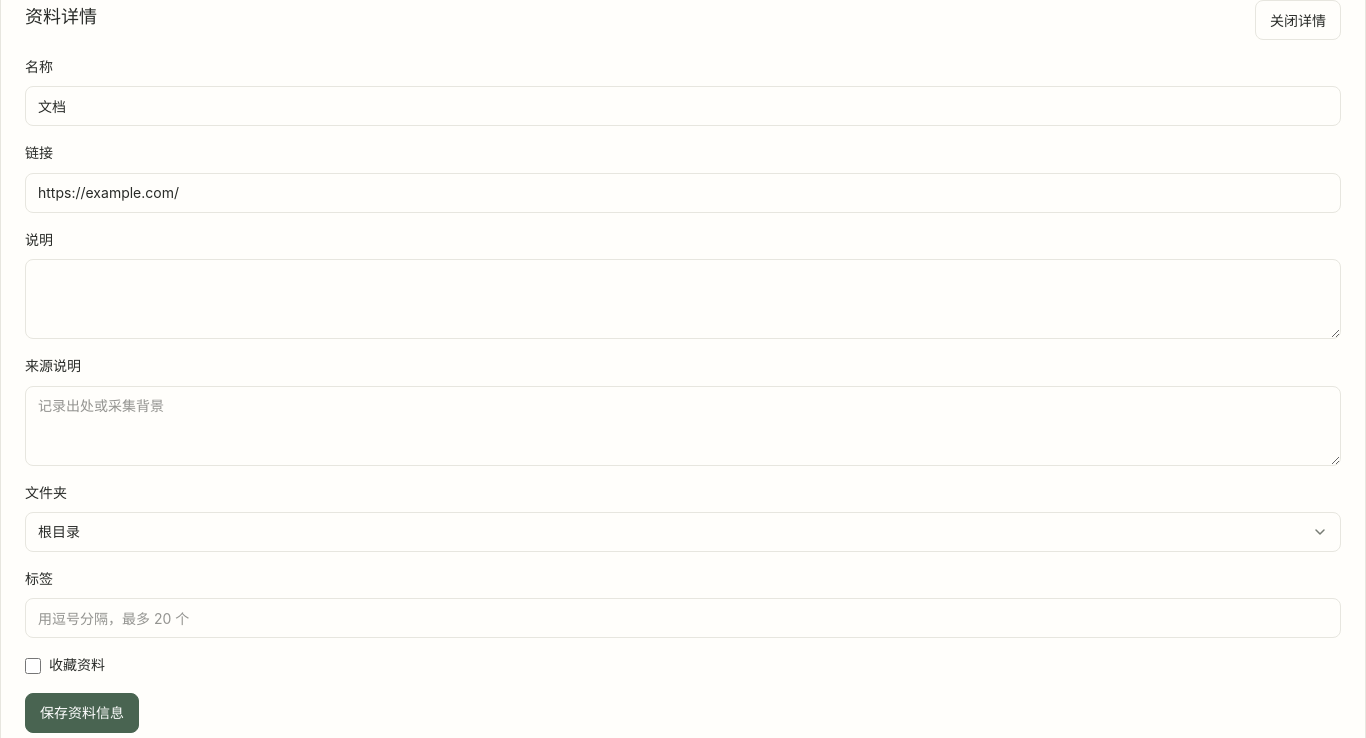
Test: 资料关联成功后下一次保存使用新 revision，不丢正在编辑的说明
In the text box labelled "说明": (683, 299) [25,259,1341,339], type "待整理"
(page scrolled)
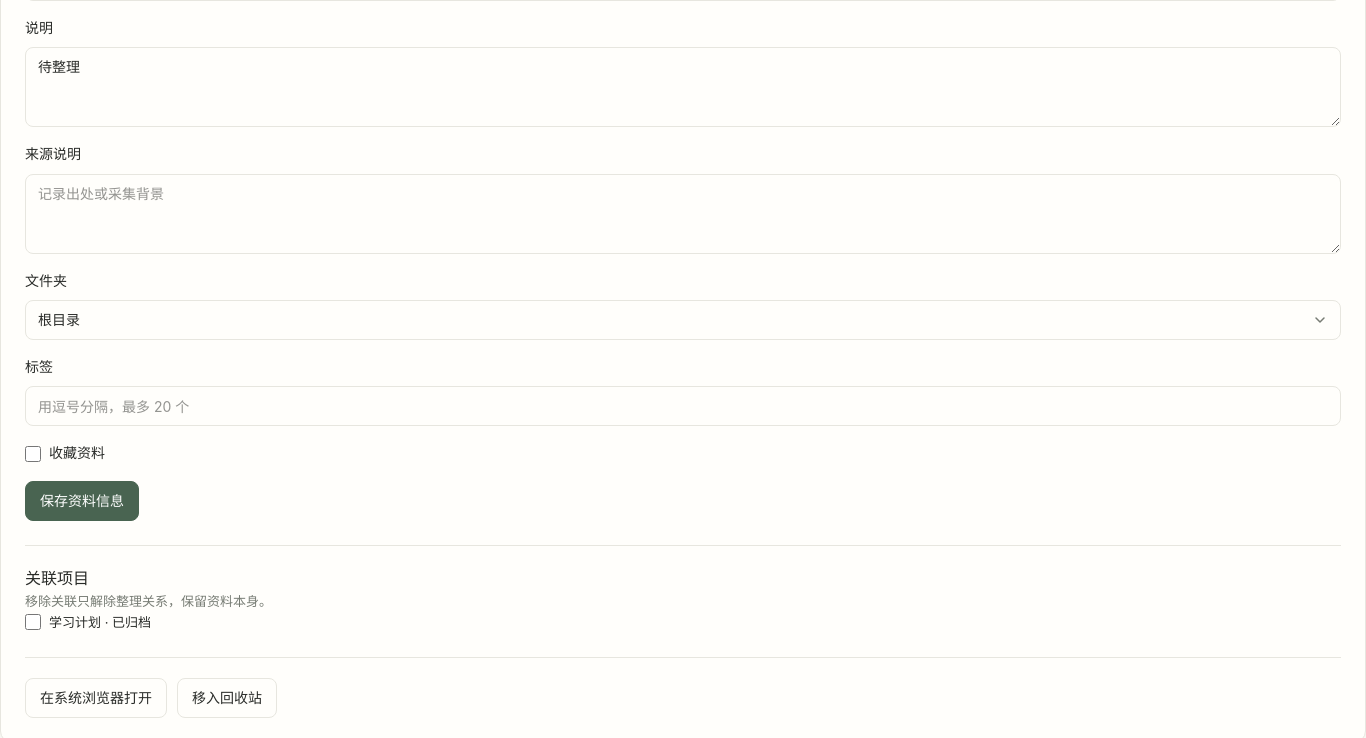
Click the checkbox labelled "学习计划 · 已归档": (33, 622) [25,614,41,630]
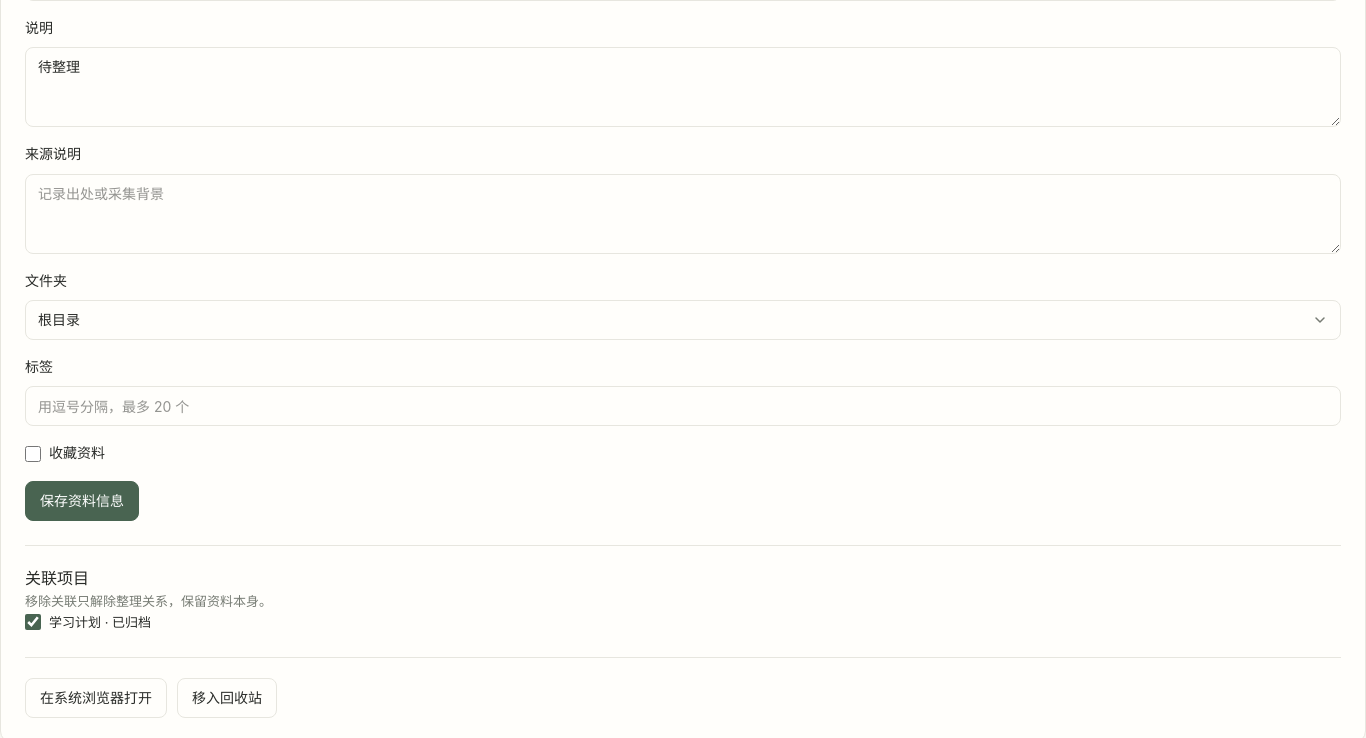
Now the checkbox labelled "学习计划 · 已归档" is checked, box [25,614,41,630]
Click the button "保存资料信息": (82, 501) [25,481,139,521]
(page scrolled)
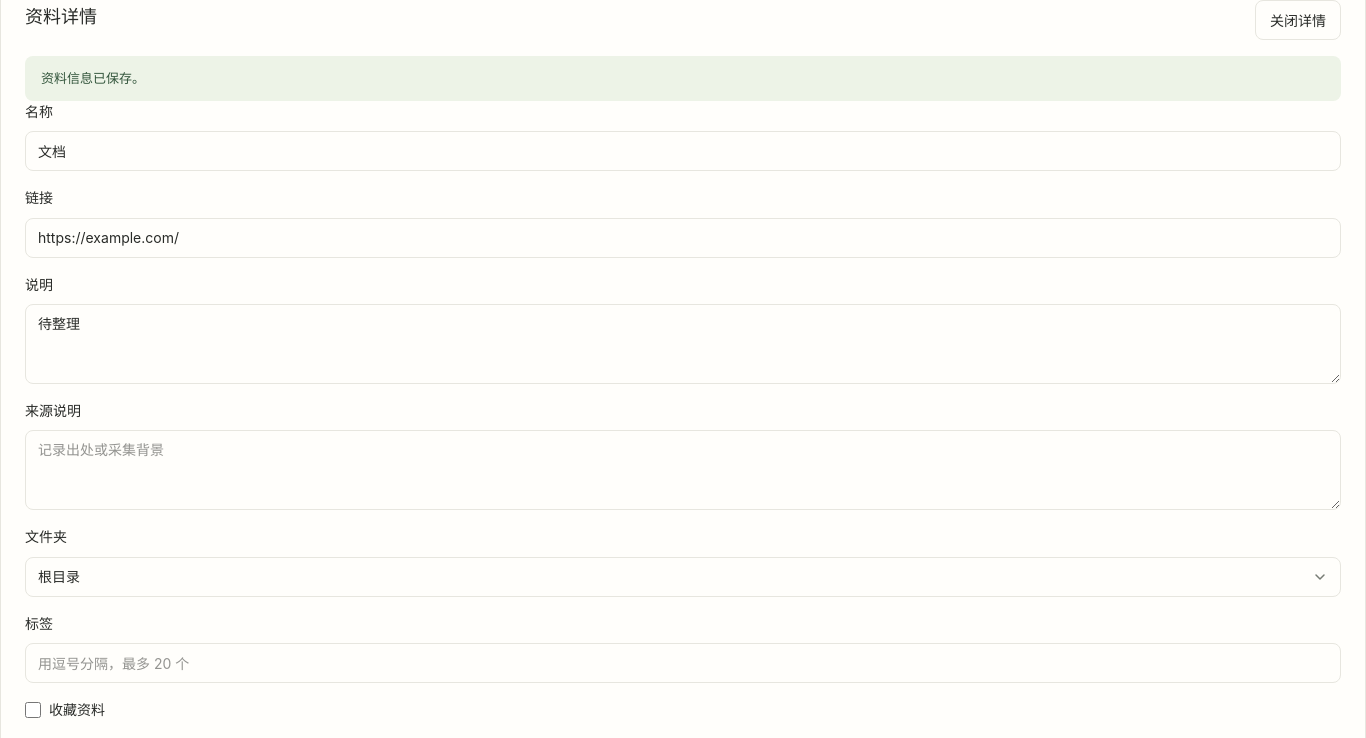
Now the text "资料信息已保存。" is shown, box [25,56,1341,101]
